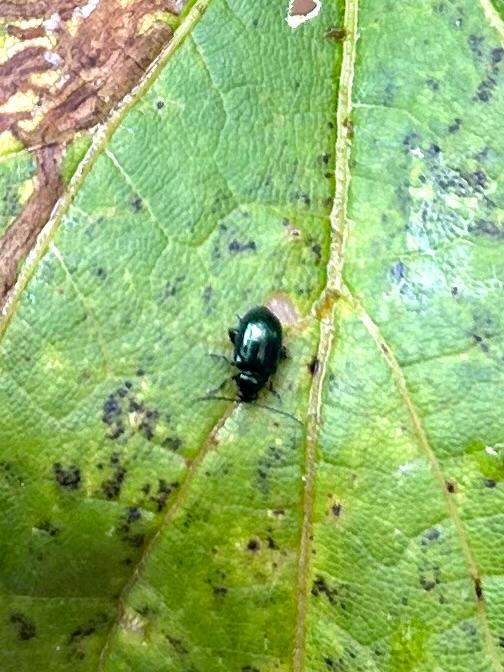flea_beetle: (181, 282, 337, 430)
